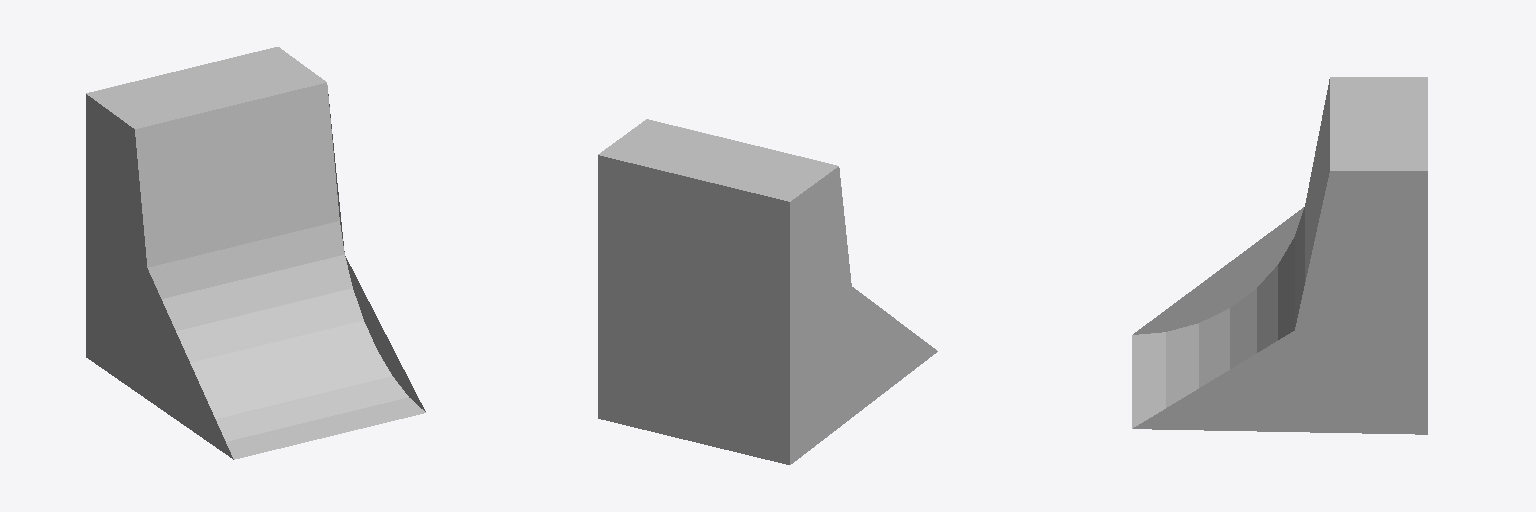
Rendered from quarter_planter_big.obj.
3 renders of one model, left to right at view 1: azimuth 30°, elevation 25°; view 2: azimuth 150°, elevation 25°; view 3: azimuth 270°, elevation 25°, orthographic.
Parts seen in each view (by area): view 1: Cylinder.005; view 2: Cylinder.005; view 3: Cylinder.005.
Part boxes in pixels (x1,y1,x2,y2): Cylinder.005: (86, 47, 425, 459); Cylinder.005: (598, 119, 937, 464); Cylinder.005: (1132, 77, 1427, 434).
Size of the model in its own units: 1.26 by 1.65 by 1.68.